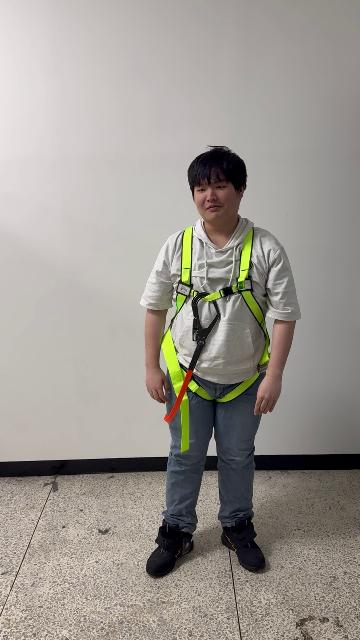helmet_not_worn: (187, 146, 249, 209)
shoe_worn: (146, 520, 194, 577), (221, 518, 265, 571)
vest_worn: (158, 225, 272, 440)
